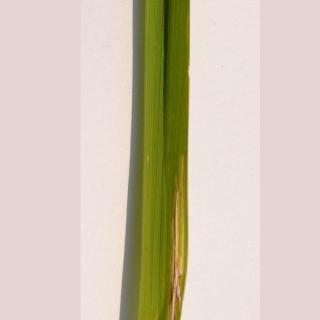Hawar-Daun: (157, 148, 192, 320)
